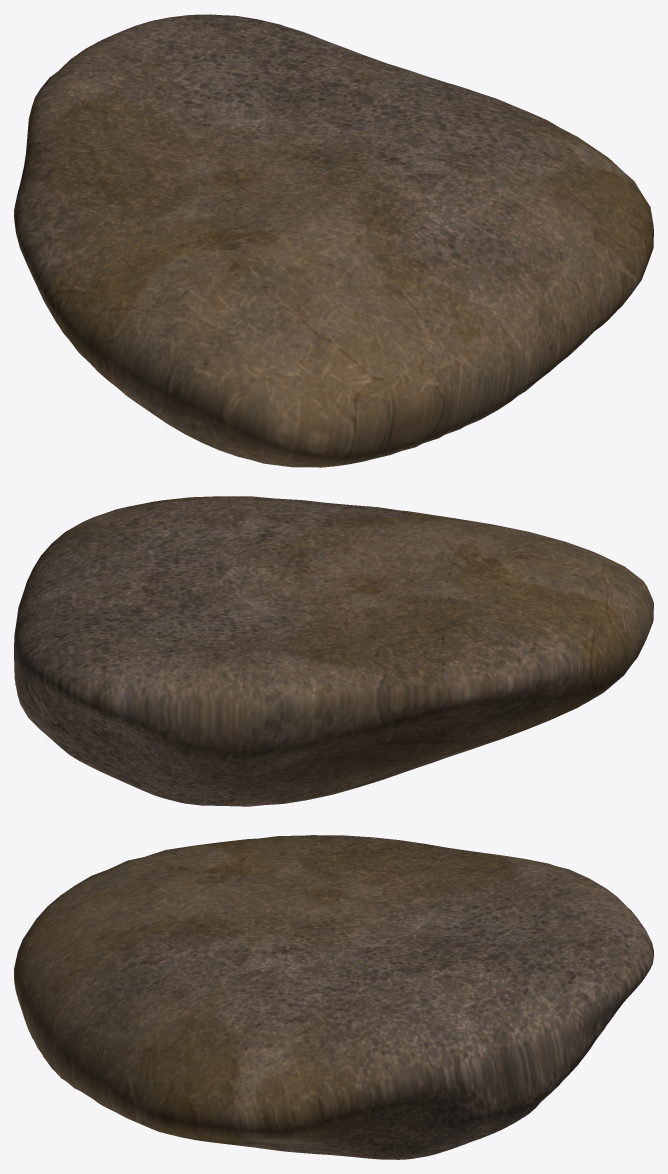
The model's file is ground.gltf.
3 views of the same model, one above another, from view 1: azimuth 30°, elevation 25°; view 2: azimuth 150°, elevation 25°; view 3: azimuth 270°, elevation 25° (orthographic). The views are drawn at different scales.
Parts seen in each view (by area): view 1: rock.002; view 2: rock.002; view 3: rock.002.
Part boxes in pixels (bbox=[...]): rock.002: bbox=[14, 14, 653, 467]; rock.002: bbox=[14, 496, 653, 806]; rock.002: bbox=[14, 835, 653, 1159].
Size of the model in its own units: 101 by 39.44 by 109.
Materials: 1 (1 with a texture image).
